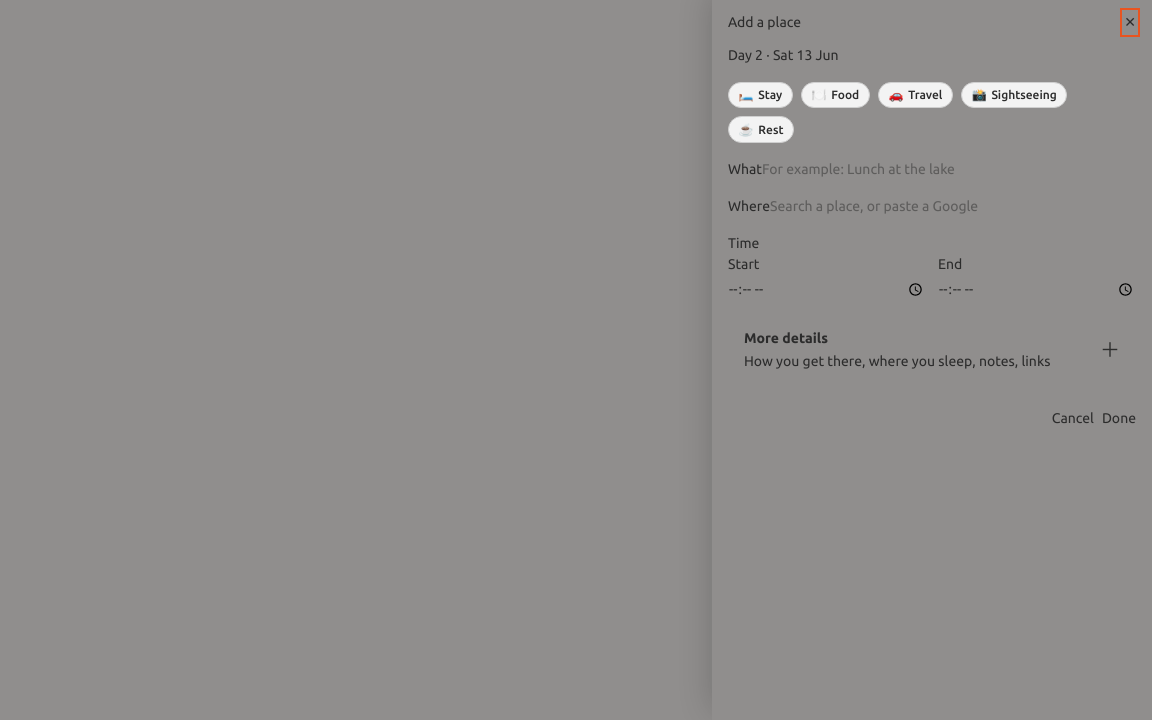
Scenario: PlannerAddStopComponent (quick add) › shows What, Where and the time up front; the rest opens from a clear More details button
This screenshot has width=1152, height=720.
What coordinates should you click on to do the following:
click the button with test id "more-details"
I would click on:
 (932, 350)
Its box is [728,316,1136,384].
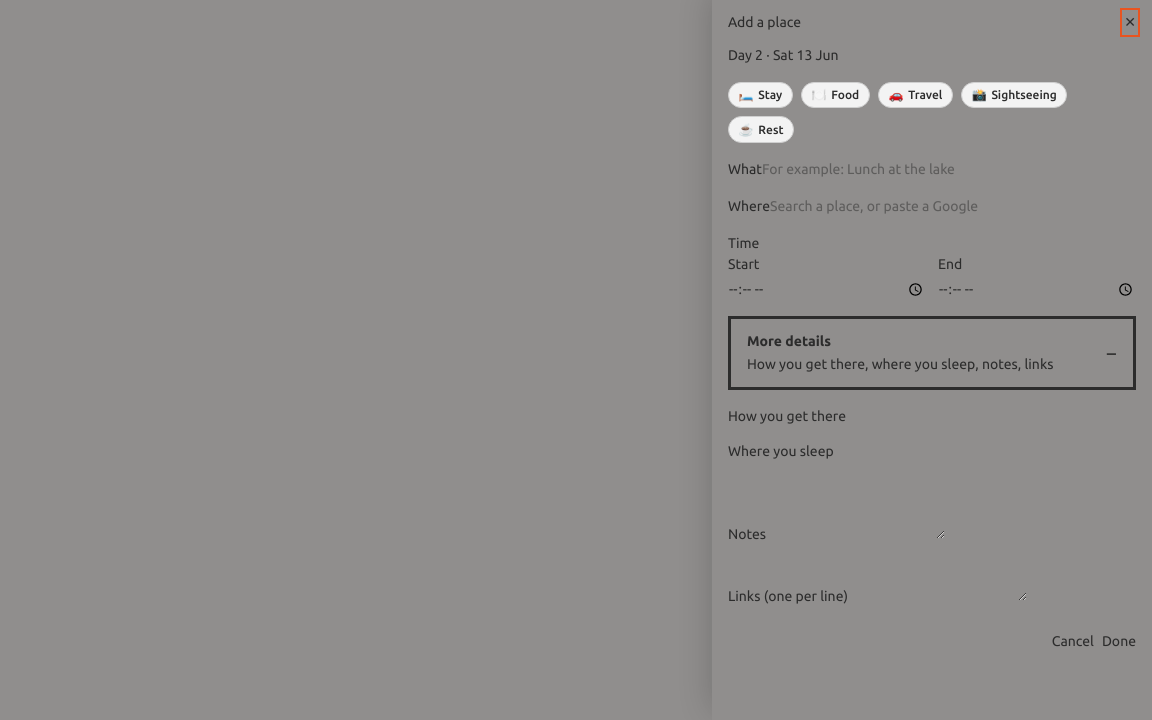
Expected: the button with test id "more-details" is expanded, [728,316,1136,390]
Expected: the field with test id "stop-transport" is shown, [846,406,1058,427]
Expected: the text box with test id "stop-links" is shown, [848,559,1027,601]
